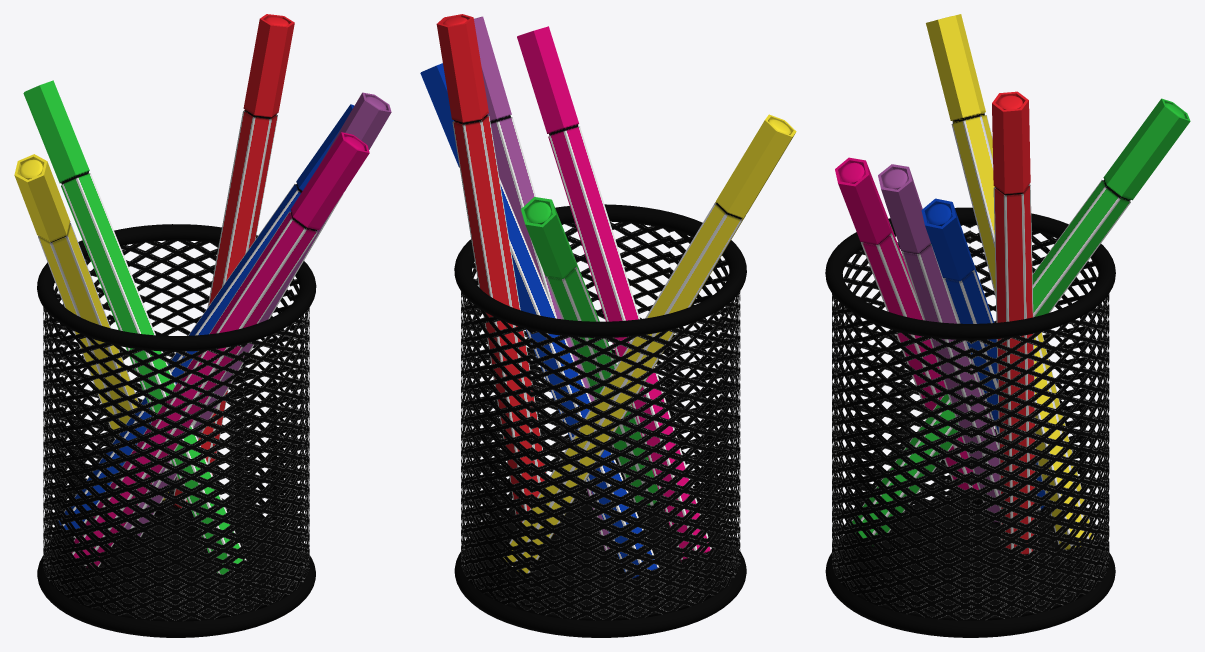
The model's file is pencilcase_c.glb.
3 renders of one model, left to right at view 1: azimuth 30°, elevation 25°; view 2: azimuth 150°, elevation 25°; view 3: azimuth 270°, elevation 25°, orthographic. The views are drawn at different scales.
Parts seen in each view (by area): view 1: HighRes; view 2: HighRes; view 3: HighRes.
Boxes of the visible parts, x1=… form: HighRes: x1=14, y1=14, x2=391, y2=637; HighRes: x1=420, y1=14, x2=796, y2=637; HighRes: x1=825, y1=14, x2=1190, y2=637.
Bounding box in the file's own units: 3.09 × 4.28 × 2.62.
8 materials, 7 textured.
